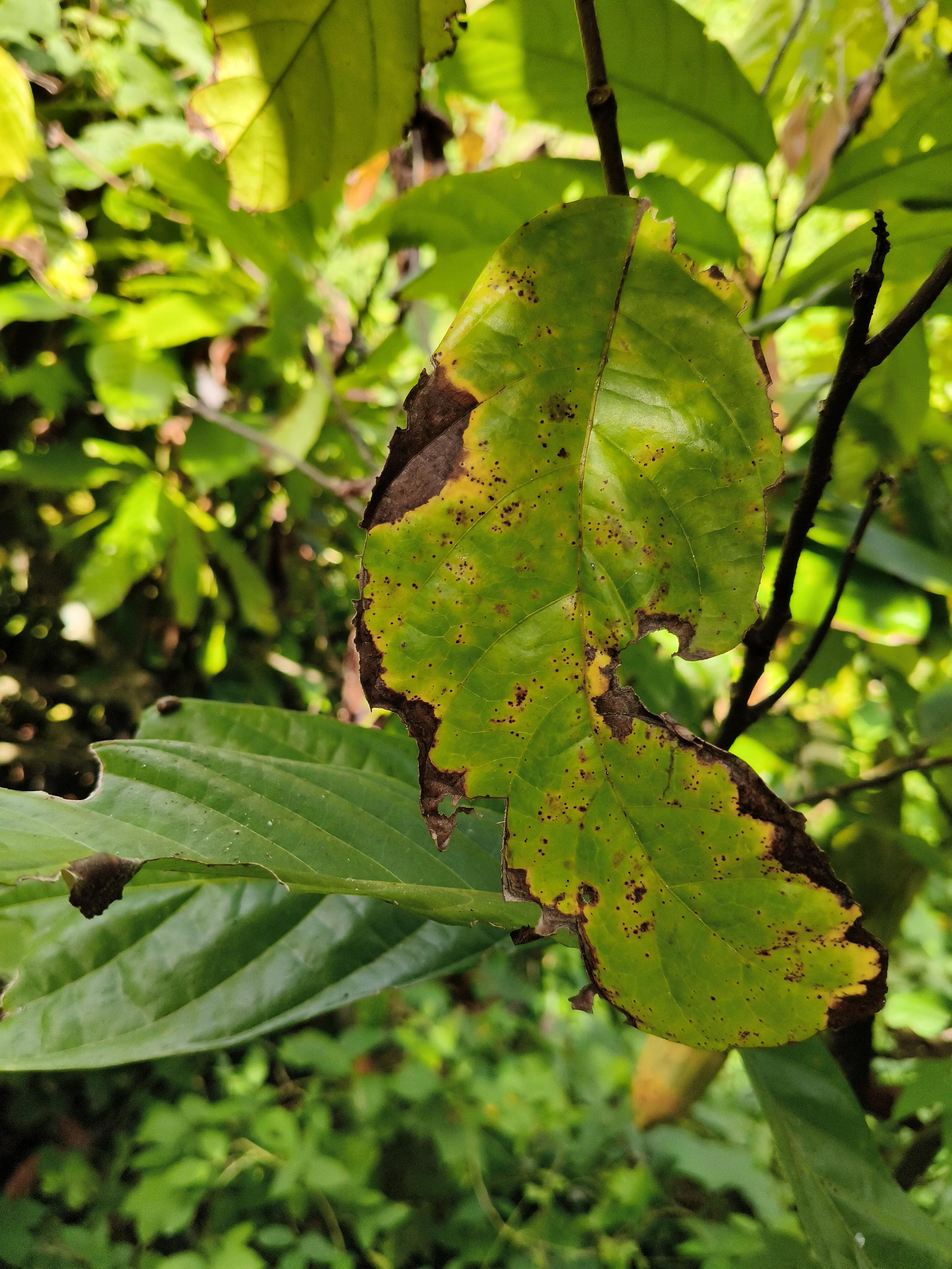deficiencia_potasio: (356, 201, 899, 1072)
